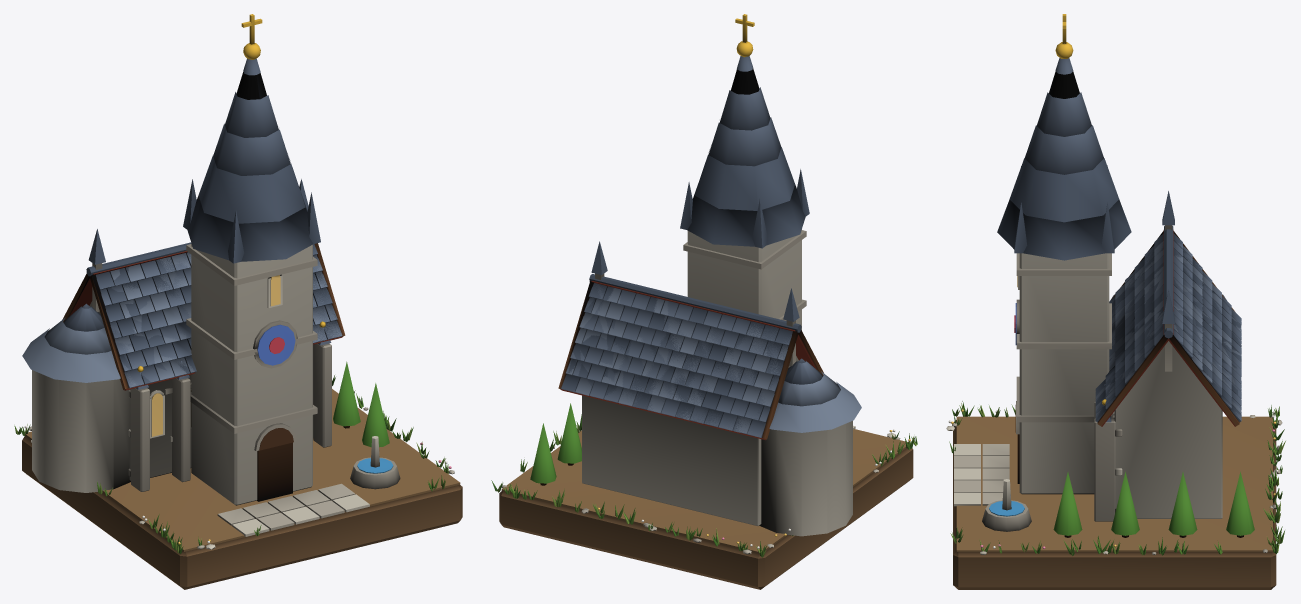
File: monument.glb
3 views of the same model, side by side, from view 1: azimuth 30°, elevation 25°; view 2: azimuth 150°, elevation 25°; view 3: azimuth 270°, elevation 25° (orthographic). The views are drawn at different scales.
Visible parts, largest first — view 1: monument_l1, monument_l3, monument_l2; view 2: monument_l1, monument_l3, monument_l2; view 3: monument_l1, monument_l3, monument_l2.
Part boxes in pixels (left/top/right/bottom): monument_l1: left=14, top=14, right=462, bottom=589; monument_l3: left=19, top=244, right=454, bottom=550; monument_l2: left=31, top=179, right=451, bottom=553; monument_l1: left=499, top=14, right=913, bottom=589; monument_l3: left=501, top=286, right=915, bottom=553; monument_l2: left=491, top=241, right=917, bottom=547; monument_l1: left=951, top=14, right=1282, bottom=589; monument_l3: left=950, top=239, right=1285, bottom=555; monument_l2: left=946, top=191, right=1284, bottom=554.
Size of the model in its own units: 2.14 by 3.08 by 1.89.
